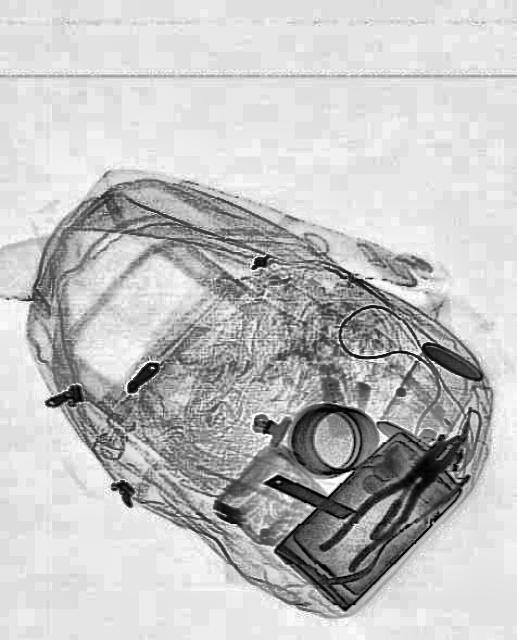Pliers: (314, 416, 474, 582)
